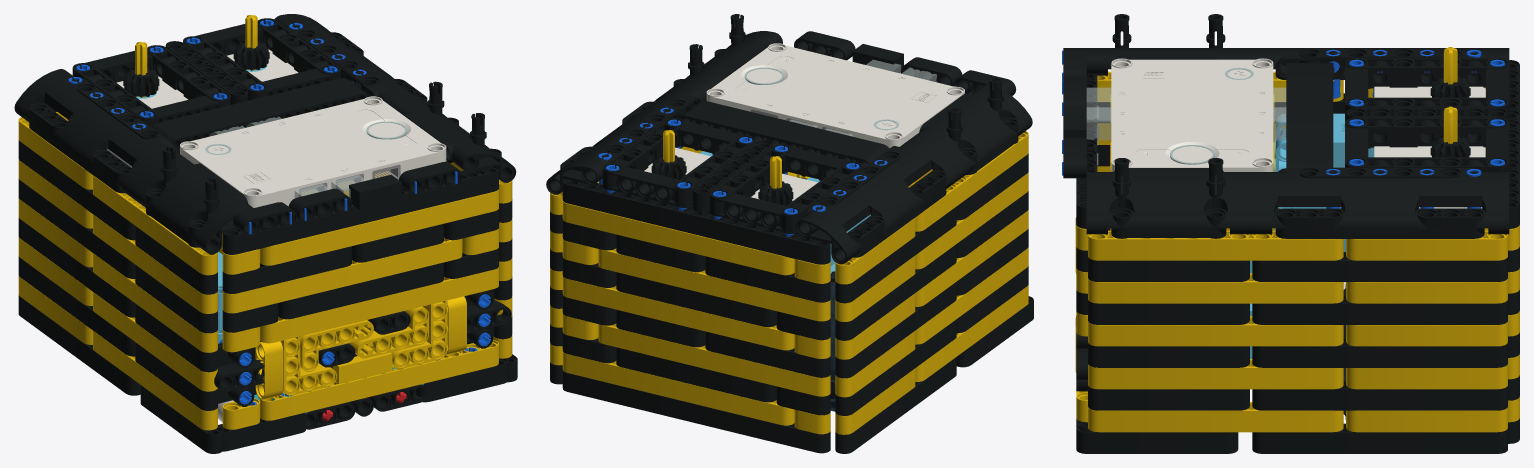
File: connectech-latest.glb
3 views of the same model, side by side, from view 1: azimuth 30°, elevation 25°; view 2: azimuth 150°, elevation 25°; view 3: azimuth 270°, elevation 25° (orthographic). The views are drawn at different scales.
Visible parts, largest first — view 1: 05_Rear_frame, 10_Top_deck, 02_Left_chassis, 06_SPIKE_hub, 01_Chassis, 07_Motor_core, 03_Right_chassis; view 2: 04_Front_frame, 10_Top_deck, 02_Left_chassis, 06_SPIKE_hub, 01_Chassis, 07_Motor_core, 03_Right_chassis, 08_Left_drive; view 3: 03_Right_chassis, 10_Top_deck, 06_SPIKE_hub, 01_Chassis, 07_Motor_core, 04_Front_frame, 05_Rear_frame, 02_Left_chassis.
Boxes of the visible parts, x1=… form: 05_Rear_frame: x1=214, y1=166, x2=511, y2=429; 10_Top_deck: x1=14, y1=14, x2=516, y2=254; 02_Left_chassis: x1=18, y1=117, x2=217, y2=430; 06_SPIKE_hub: x1=180, y1=96, x2=446, y2=254; 01_Chassis: x1=18, y1=295, x2=517, y2=453; 07_Motor_core: x1=107, y1=15, x2=298, y2=343; 03_Right_chassis: x1=450, y1=162, x2=512, y2=358; 04_Front_frame: x1=562, y1=179, x2=830, y2=434; 10_Top_deck: x1=546, y1=14, x2=1032, y2=264; 02_Left_chassis: x1=835, y1=131, x2=1028, y2=434; 06_SPIKE_hub: x1=706, y1=43, x2=964, y2=187; 01_Chassis: x1=550, y1=296, x2=1033, y2=453; 07_Motor_core: x1=644, y1=130, x2=870, y2=273; 03_Right_chassis: x1=550, y1=146, x2=702, y2=365; 08_Left_drive: x1=830, y1=271, x2=835, y2=411; 03_Right_chassis: x1=1088, y1=230, x2=1507, y2=432; 10_Top_deck: x1=1062, y1=14, x2=1509, y2=238; 06_SPIKE_hub: x1=1086, y1=58, x2=1286, y2=230; 01_Chassis: x1=1076, y1=418, x2=1519, y2=453; 07_Motor_core: x1=1250, y1=47, x2=1485, y2=358; 04_Front_frame: x1=1508, y1=60, x2=1519, y2=422; 05_Rear_frame: x1=1075, y1=74, x2=1110, y2=422; 02_Left_chassis: x1=1097, y1=71, x2=1488, y2=230.
Bounding box in the file's own units: 338 × 276 × 390.
